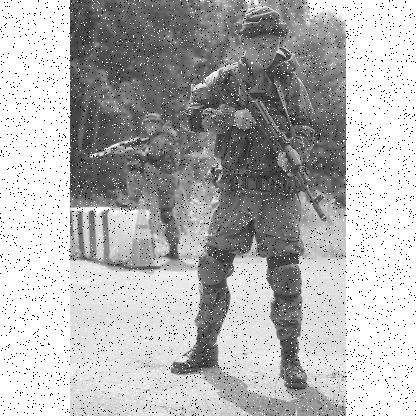gun: (218, 67, 326, 221), (87, 138, 149, 158)
